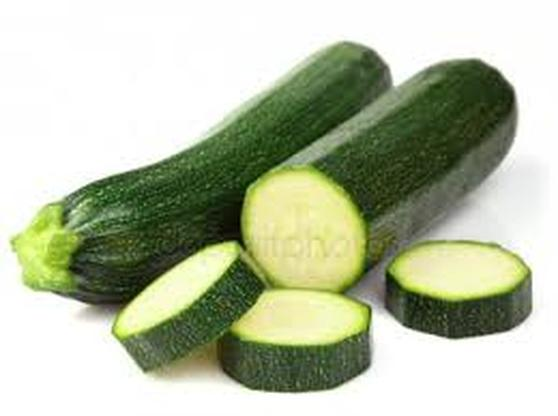zucchini: (32, 29, 384, 284)
